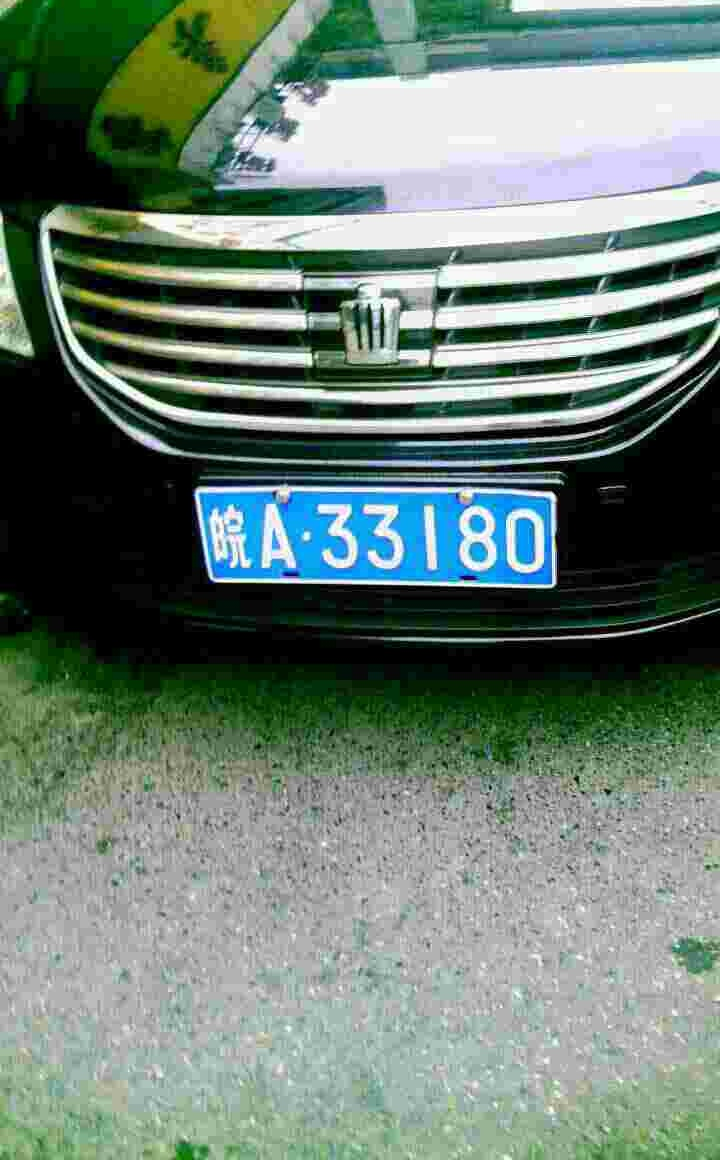license_plate: (207, 482, 559, 587)
